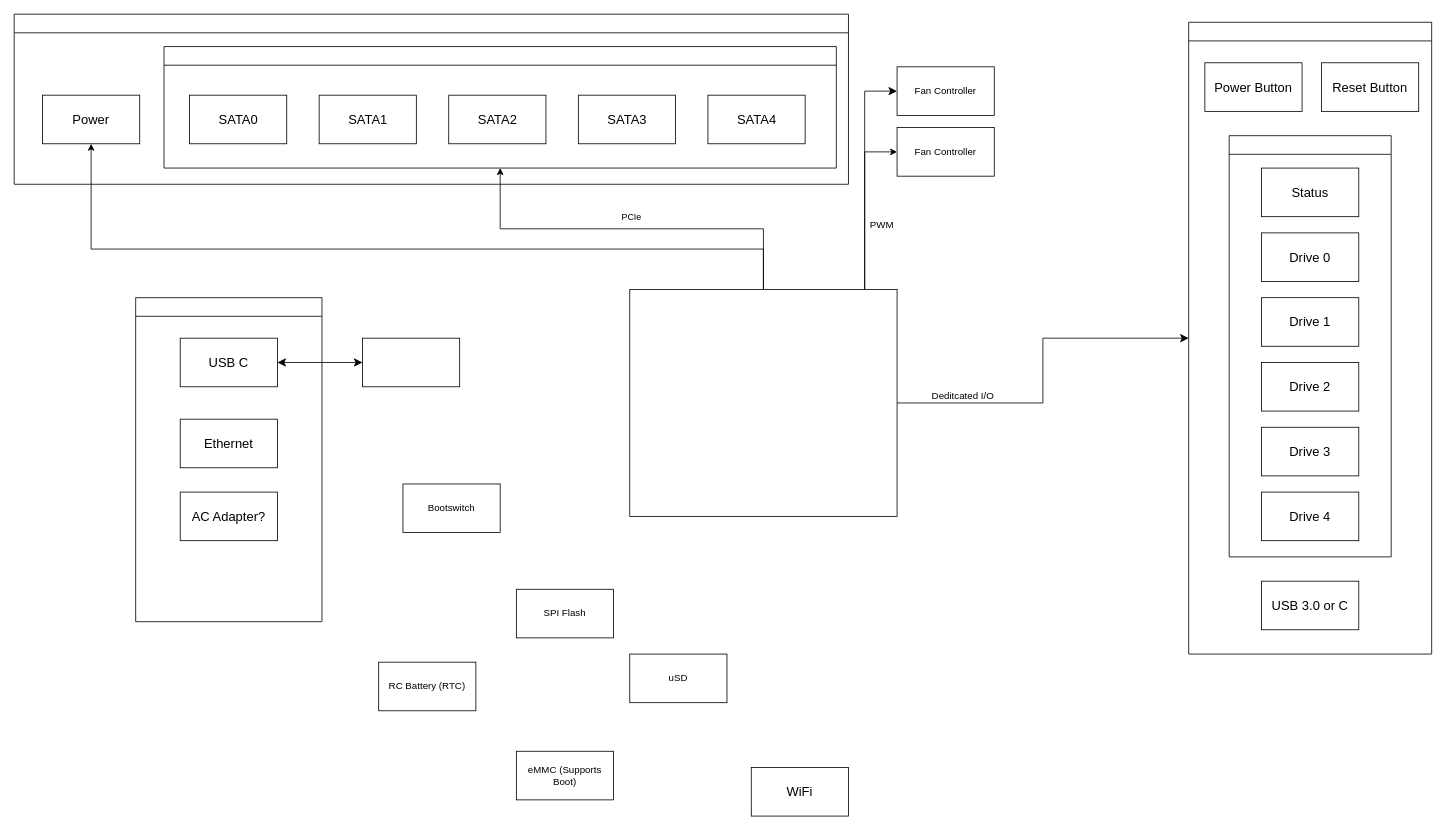
Some shapes in this 1446 by 830 pixel diagram are drawn without their labels. Here are the shapes that lost their labels. From the top down, the box of each, then its label:
(13, 13, 848, 184): Storage
(163, 46, 836, 168): Drives
(1228, 135, 1391, 557): LEDs
(1188, 21, 1432, 654): Front Facing I/O
(362, 337, 460, 387): UART (Supports Boot)
(629, 289, 897, 516): uController
(135, 297, 322, 622): Back Ports
